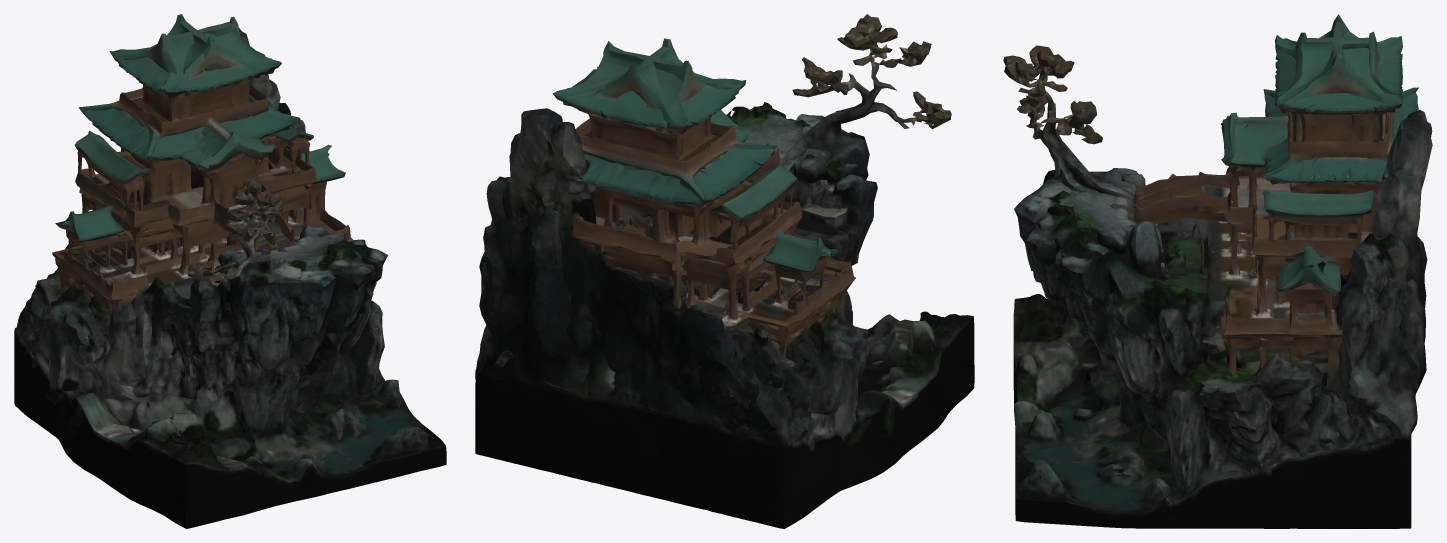
File: cliff_diorama.glb
3 views of the same model, side by side, from view 1: azimuth 30°, elevation 25°; view 2: azimuth 150°, elevation 25°; view 3: azimuth 270°, elevation 25° (orthographic). The views are drawn at different scales.
Parts seen in each view (by area): view 1: geometry_0; view 2: geometry_0; view 3: geometry_0.
Boxes of the visible parts, x1=… form: geometry_0: x1=14, y1=14, x2=446, y2=528; geometry_0: x1=475, y1=14, x2=974, y2=528; geometry_0: x1=1003, y1=14, x2=1432, y2=528.
Size of the model in its own units: 0.6159 by 0.7 by 0.6394.
Materials: 1 (1 with a texture image).
